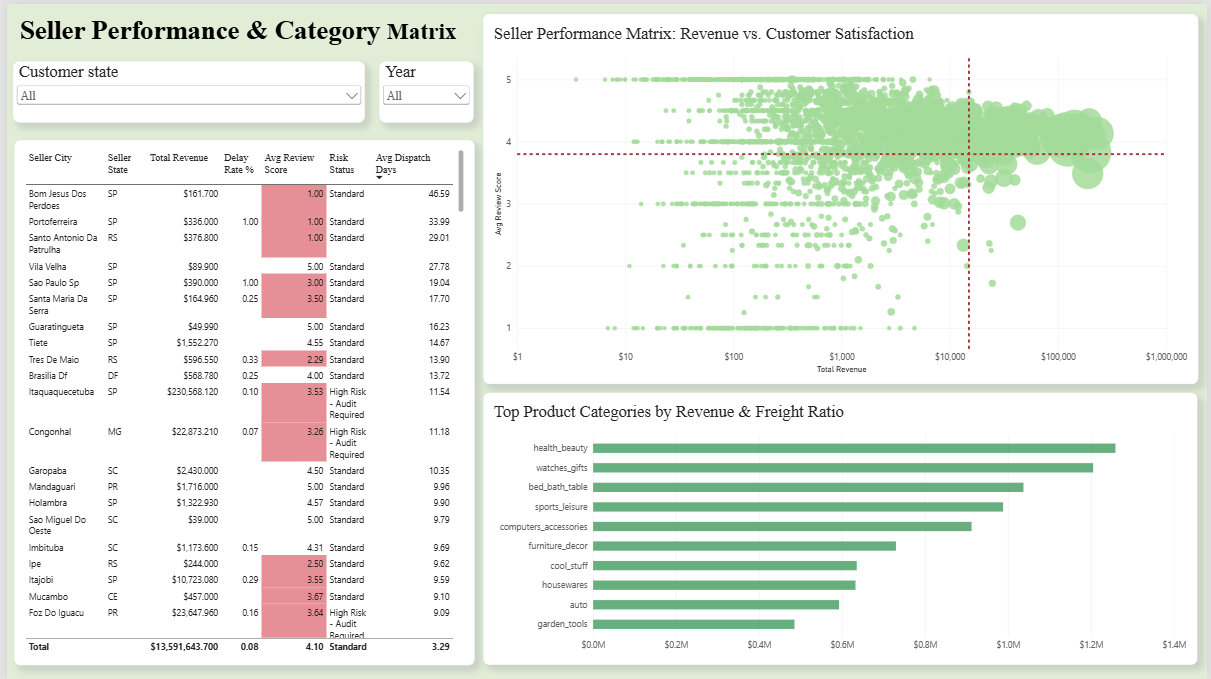

The dashboard page shown, as its layout file describes it:
{"tool":"powerbi","page":{"name":"3. Seller & Category","canvas":[1920,1080],"ordinal":2},"visuals":[{"type":"textbox","box":[10,16,736,60],"z":0},{"type":"scatterChart","title":"Seller Performance Matrix: Revenue vs. Customer Satisfaction","fields":{"Category":["dim_sellers.seller_id"],"Size":["_Measures.Total Orders"],"X":["_Measures.Total Revenue"],"Y":["_Measures.Avg Review Score"]},"box":[762,16,1144,592],"z":1000},{"type":"clusteredBarChart","title":"Top Product Categories by Revenue & Freight Ratio","fields":{"Category":["dim_products.product_category_name_english"],"Y":["_Measures.Total Revenue"]},"box":[762.5,622.5,1142.5,435],"z":2000},{"type":"tableEx","fields":{"Values":["dim_sellers.seller_city","dim_sellers.seller_state","_Measures.Total Revenue","_Measures.Delay Rate %","_Measures.Avg Review Score","_Measures.Seller Risk Flag","Avg(fact_order_items.seller_dispatch_days)"]},"box":[12,218,736,840],"z":3000},{"type":"slicer","fields":{"Values":["dim_date.year"]},"box":[595,92.5,150,97.5],"z":4000},{"type":"slicer","fields":{"Values":["dim_customers.customer_state"]},"box":[10,92.5,562.5,97.5],"z":5000}]}

Visuals, with their boxes in screenshot pixels (x1, y1, x2, y2), scaled from the page's 1920x1080 canvas onto the 1211x679 screenshot:
textbox: x1=6, y1=10, x2=471, y2=48
"Seller Performance Matrix: Revenue vs. Customer Satisfaction" scatterChart: x1=481, y1=10, x2=1202, y2=382
"Top Product Categories by Revenue & Freight Ratio" clusteredBarChart: x1=481, y1=391, x2=1202, y2=665
tableEx - dim_sellers.seller_city x dim_sellers.seller_state: x1=8, y1=137, x2=472, y2=665
slicer - dim_date.year: x1=375, y1=58, x2=470, y2=119
slicer - dim_customers.customer_state: x1=6, y1=58, x2=361, y2=119
